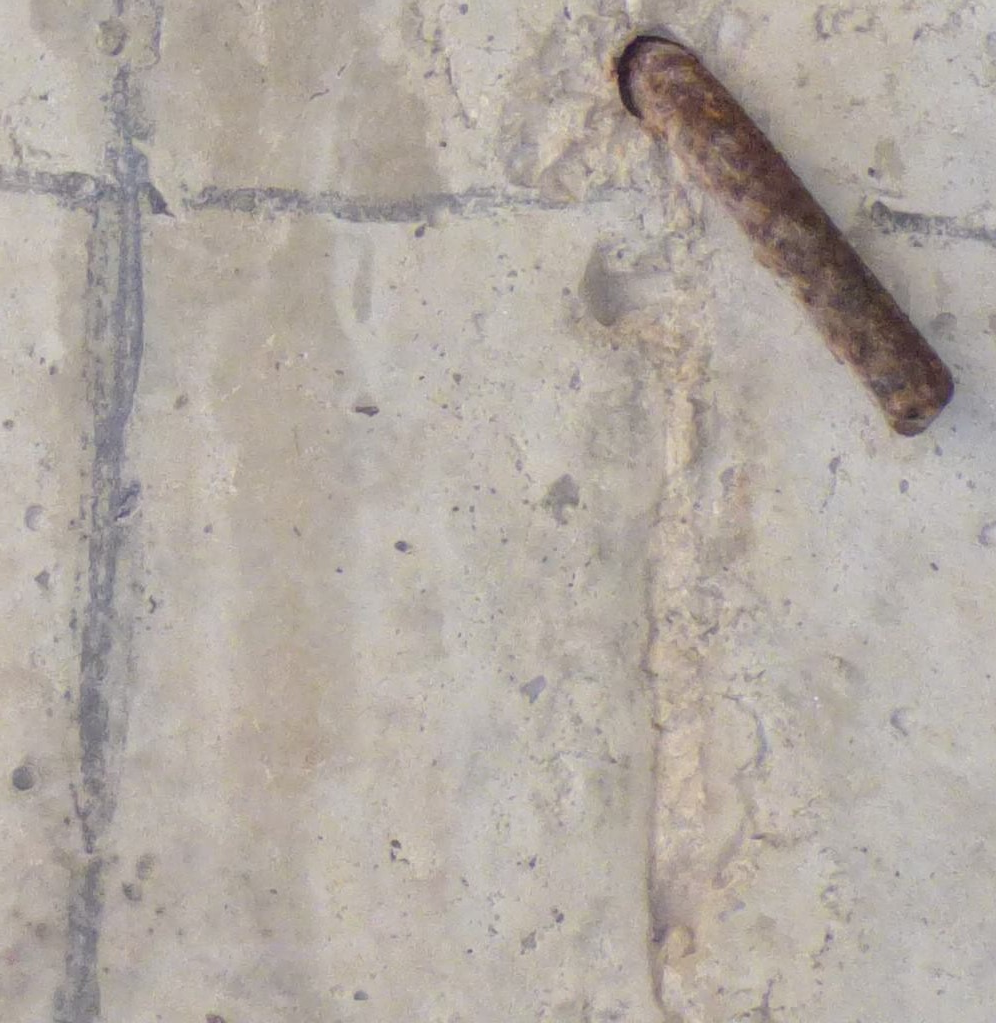Exposed reinforcement: (622, 39, 956, 437)
